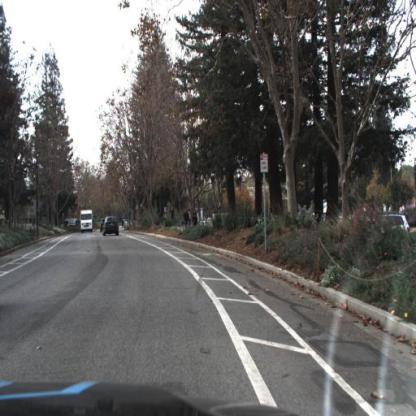car: (103, 217, 120, 239)
pedestrian: (170, 205, 177, 227), (186, 209, 191, 232), (191, 204, 194, 233), (195, 211, 199, 229)
truck: (80, 207, 95, 235), (81, 210, 93, 235), (193, 207, 205, 227)
